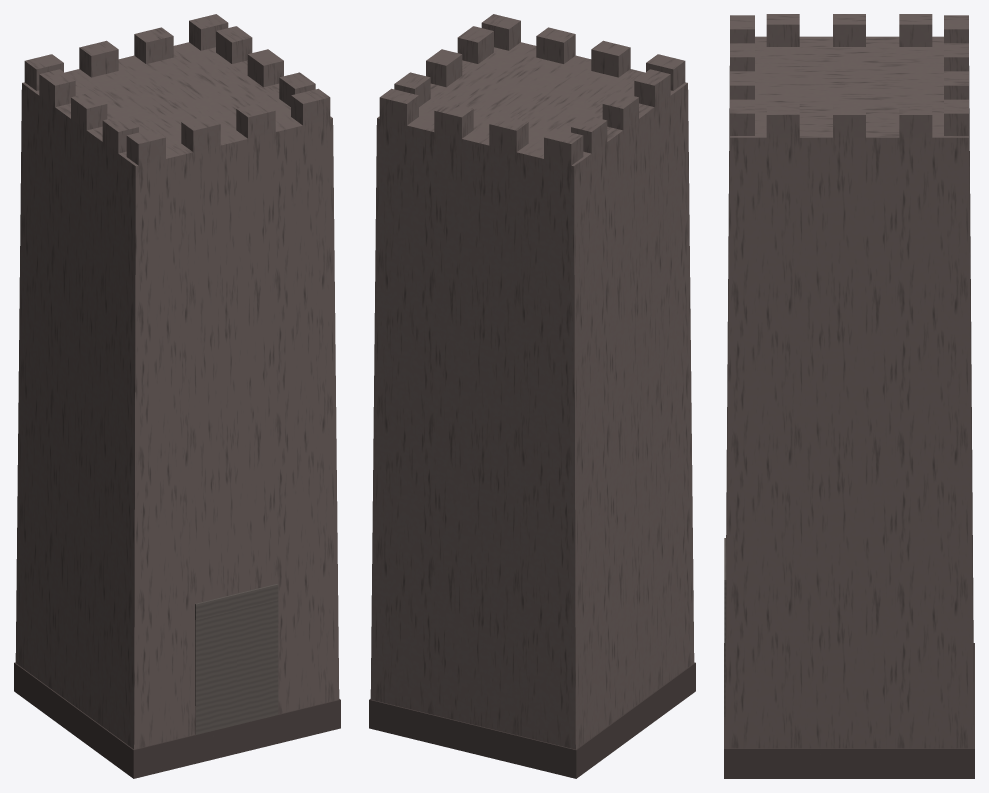
The model's file is SM_Souq_Warehouse_W3D30_Crenel.fbx.
3 renders of one model, left to right at view 1: azimuth 30°, elevation 25°; view 2: azimuth 150°, elevation 25°; view 3: azimuth 270°, elevation 25°, orthographic. The views are drawn at different scales.
Parts seen in each view (by area): view 1: SM_Souq_Warehouse_W3D30_Crenel; view 2: SM_Souq_Warehouse_W3D30_Crenel; view 3: SM_Souq_Warehouse_W3D30_Crenel.
Part boxes in pixels (bbox=[...]): SM_Souq_Warehouse_W3D30_Crenel: bbox=[14, 14, 340, 778]; SM_Souq_Warehouse_W3D30_Crenel: bbox=[369, 14, 695, 778]; SM_Souq_Warehouse_W3D30_Crenel: bbox=[724, 14, 974, 778].
Bounding box in the file's own units: 302 × 880 × 302.
3 materials, 3 textured.
